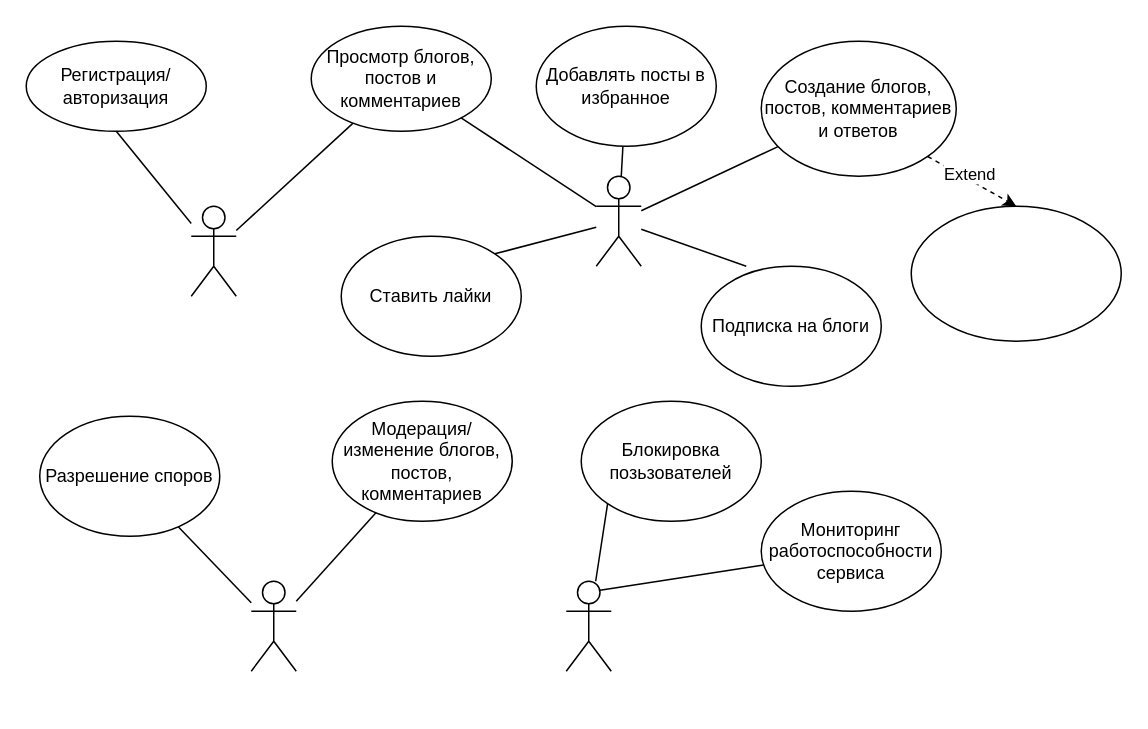
Some shapes in this 1148 by 729 pixel diagram are drawn without their labels. Each missing label, with the box of its shape:
Admin: (565, 580, 611, 671)
Guest: (190, 205, 236, 296)
Moderator: (250, 580, 296, 671)
User: (595, 175, 641, 266)
Управление своими блогами, постами, комментариями и ответами: (910, 205, 1121, 341)
